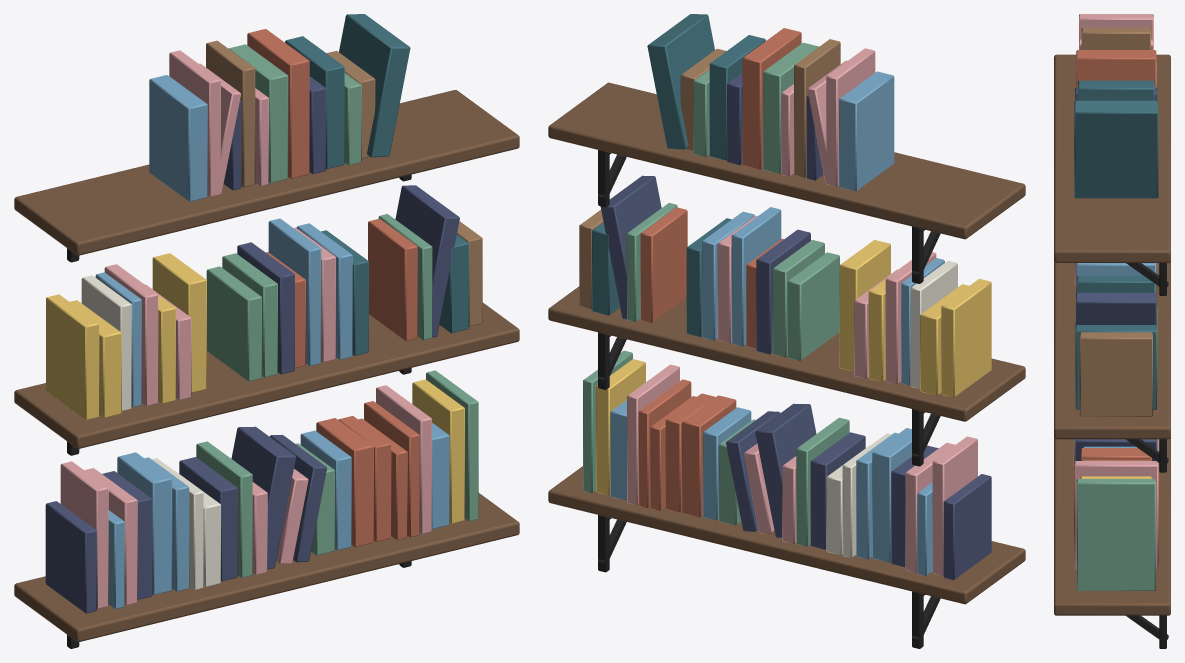
File: bookshelf.glb
3 renders of one model, left to right at view 1: azimuth 30°, elevation 25°; view 2: azimuth 150°, elevation 25°; view 3: azimuth 270°, elevation 25°, orthographic. The views are drawn at different scales.
Parts seen in each view (by area): view 1: walnut_flat, book_4, book_1, book_5, book_2, book_0, book_3, book_6, book_8, book_7; view 2: walnut_flat, book_1, book_4, book_5, book_2, book_0, book_3, book_6, iron_black, book_7, book_8; view 3: walnut_flat, book_6, book_2, book_8, book_0, book_1, book_5, iron_black, book_4, book_3.
Boxes of the visible parts, left/top/right/bottom form: walnut_flat: left=14, top=90, right=519, bottom=642; book_4: left=95, top=75, right=449, bottom=609; book_1: left=45, top=76, right=459, bottom=613; book_5: left=60, top=50, right=431, bottom=608; book_2: left=196, top=44, right=478, bottom=577; book_0: left=247, top=29, right=419, bottom=547; book_3: left=46, top=253, right=464, bottom=523; book_6: left=285, top=14, right=468, bottom=355; book_8: left=206, top=40, right=482, bottom=326; book_7: left=81, top=275, right=220, bottom=590; walnut_flat: left=548, top=82, right=1025, bottom=604; book_1: left=600, top=73, right=991, bottom=580; book_4: left=610, top=71, right=944, bottom=575; book_5: left=627, top=48, right=977, bottom=575; book_2: left=583, top=42, right=849, bottom=546; book_0: left=638, top=28, right=801, bottom=517; book_3: left=596, top=240, right=991, bottom=495; book_6: left=592, top=14, right=765, bottom=336; iron_black: left=598, top=150, right=940, bottom=648; book_7: left=826, top=260, right=957, bottom=557; book_8: left=579, top=39, right=840, bottom=309; walnut_flat: left=1054, top=54, right=1170, bottom=615; book_6: left=1074, top=80, right=1158, bottom=409; book_2: left=1075, top=306, right=1157, bottom=590; book_8: left=1079, top=27, right=1152, bottom=416; book_0: left=1074, top=50, right=1158, bottom=562; book_1: left=1075, top=87, right=1157, bottom=460; book_5: left=1074, top=14, right=1158, bottom=569; iron_black: left=1126, top=263, right=1168, bottom=648; book_4: left=1076, top=263, right=1155, bottom=447; book_3: left=1080, top=476, right=1152, bottom=478.
Size of the model in its own units: 1.2 by 1.5 by 0.3.
